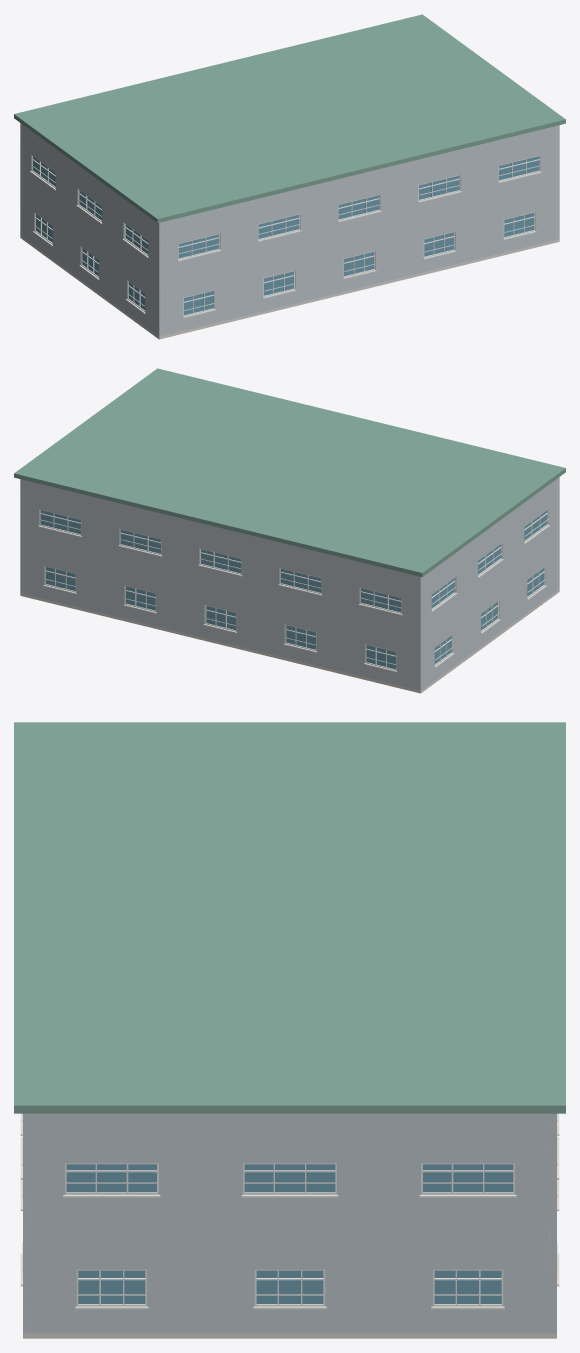
Rendered from baseball.glb.
3 renders of one model, top to bottom at view 1: azimuth 30°, elevation 25°; view 2: azimuth 150°, elevation 25°; view 3: azimuth 270°, elevation 25°, orthographic. The views are drawn at different scales.
Parts seen in each view (by area): view 1: baseball__roofMetal, baseball__metalPanel, baseball__glass, baseball__frameW, baseball__corrFloor, baseball__white, baseball__rail; view 2: baseball__roofMetal, baseball__metalPanel, baseball__glass, baseball__frameW, baseball__corrFloor, baseball__white, baseball__rail; view 3: baseball__roofMetal, baseball__metalPanel, baseball__glass, baseball__frameW, baseball__corrFloor, baseball__white, baseball__rail.
Boxes of the visible parts, box(x1,y1,x2,y2) form: baseball__roofMetal: box(14, 14, 565, 223); baseball__metalPanel: box(20, 123, 559, 336); baseball__glass: box(33, 156, 539, 315); baseball__frameW: box(31, 155, 540, 316); baseball__corrFloor: box(20, 235, 559, 339); baseball__white: box(30, 171, 541, 318); baseball__rail: box(31, 165, 539, 311); baseball__roofMetal: box(14, 368, 565, 577); baseball__metalPanel: box(20, 477, 559, 690); baseball__glass: box(40, 510, 546, 669); baseball__frameW: box(39, 509, 548, 670); baseball__corrFloor: box(20, 589, 559, 693); baseball__white: box(38, 525, 549, 672); baseball__rail: box(40, 519, 548, 665); baseball__roofMetal: box(14, 722, 565, 1113); baseball__metalPanel: box(23, 1113, 556, 1333); baseball__glass: box(66, 1164, 513, 1303); baseball__frameW: box(65, 1163, 514, 1306); baseball__corrFloor: box(23, 1333, 556, 1338); baseball__white: box(20, 1113, 559, 1309); baseball__rail: box(22, 1113, 557, 1295).
Bounding box in the file's own units: 30.9 × 8.9 × 18.8.
